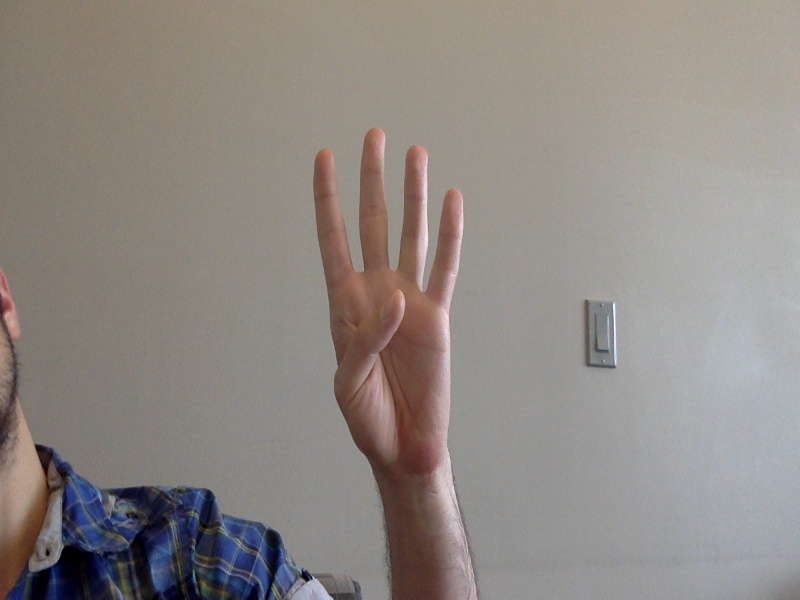4-hand: (314, 126, 463, 474)
